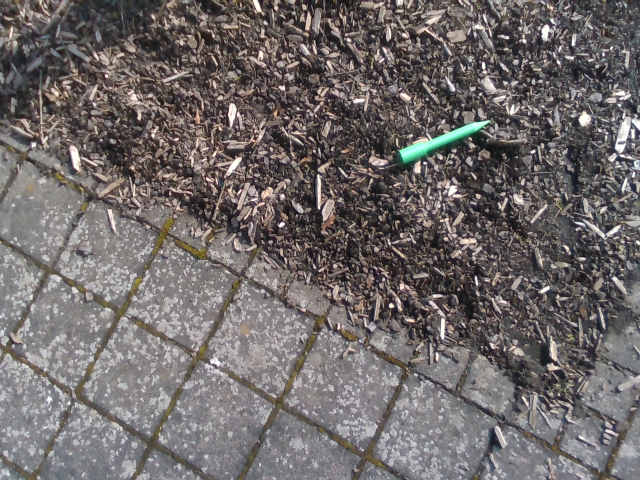Probe: (393, 110, 496, 169)
